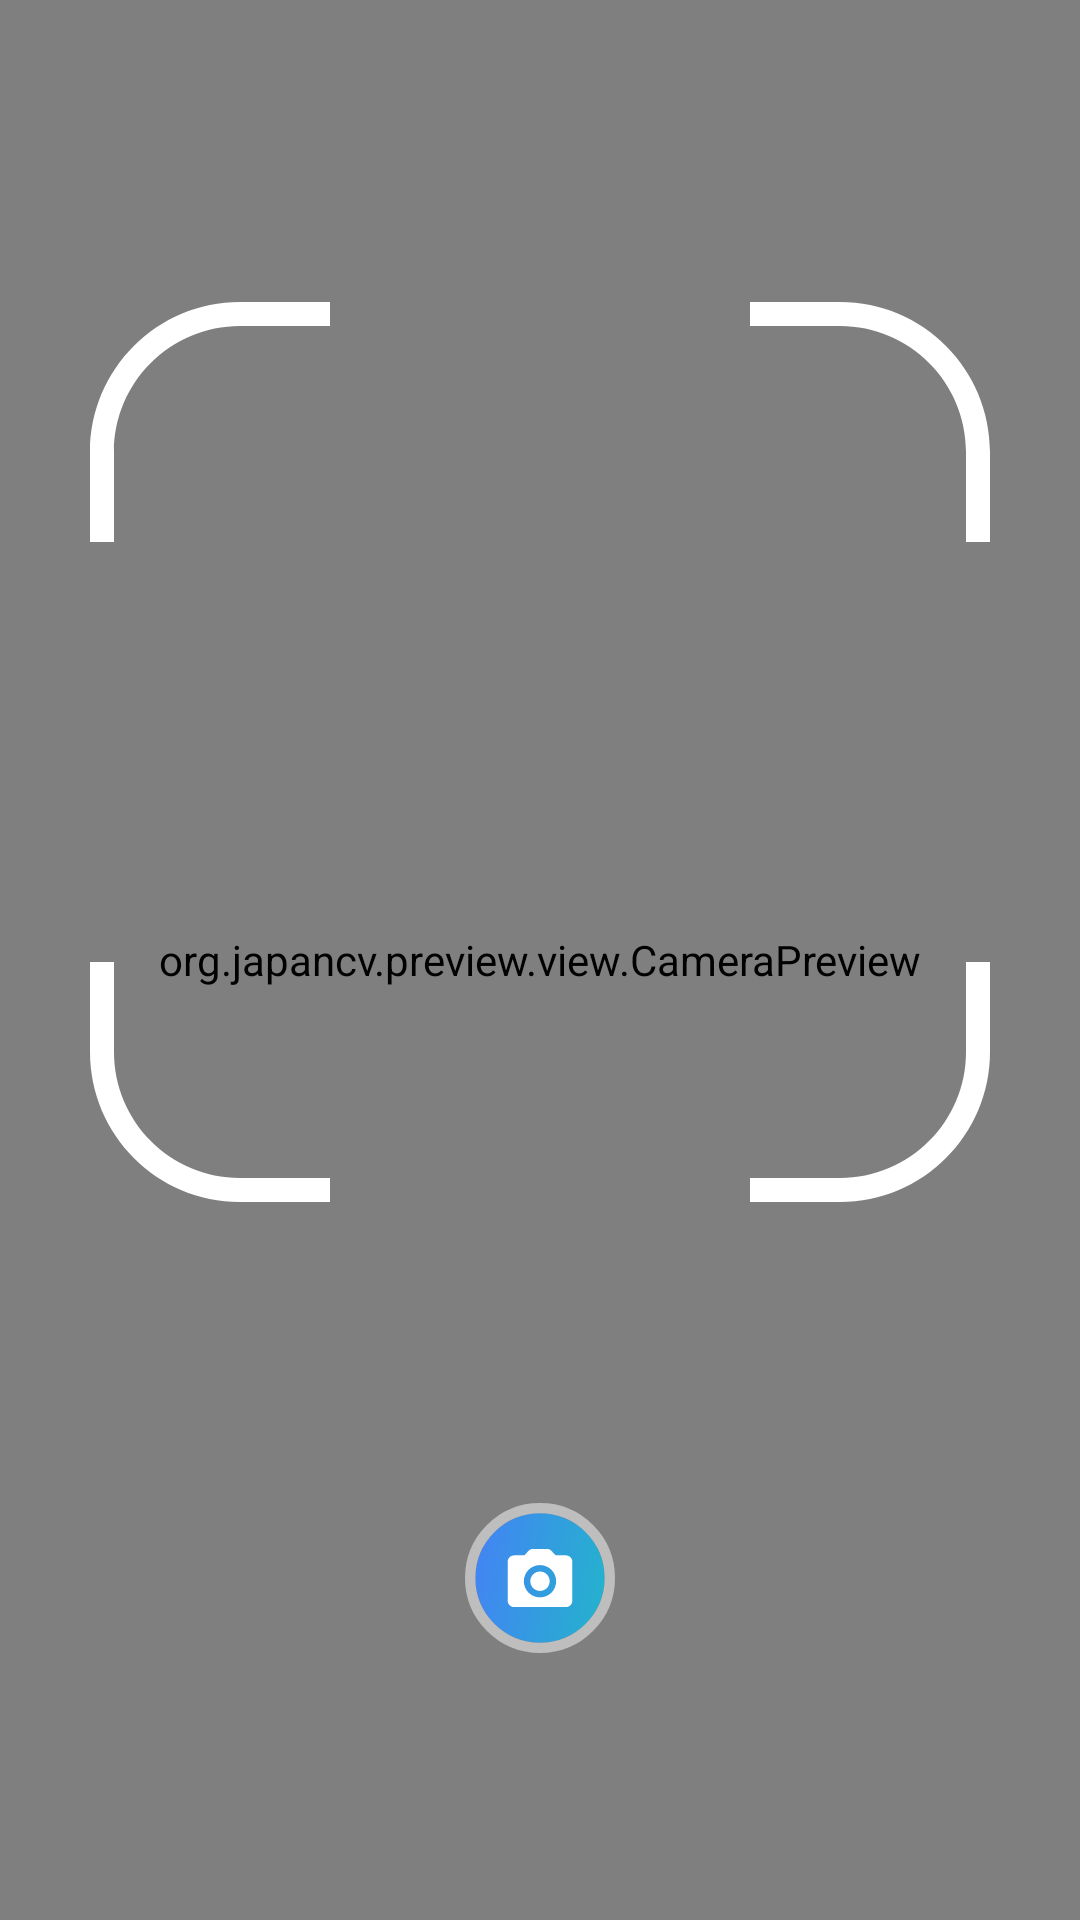

Screen size 1080x1920. Icon name, then its box in pixels as (x1, y1, x2, y2):
take a photo: (465, 1503, 615, 1653)
